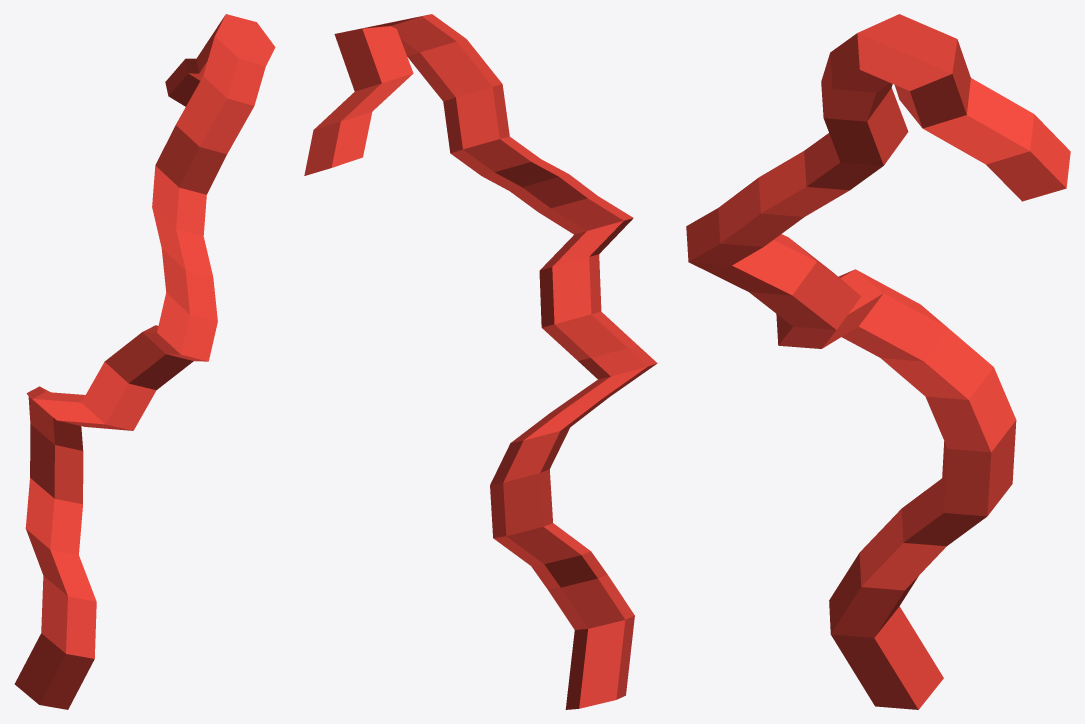
The picture shows the model from 3 angles, left to right: view 1: azimuth 30°, elevation 25°; view 2: azimuth 150°, elevation 25°; view 3: azimuth 270°, elevation 25°; orthographic projection. The views are drawn at different scales.
Bounding box in the file's own units: 0.045 × 0.1022 × 0.0452.
